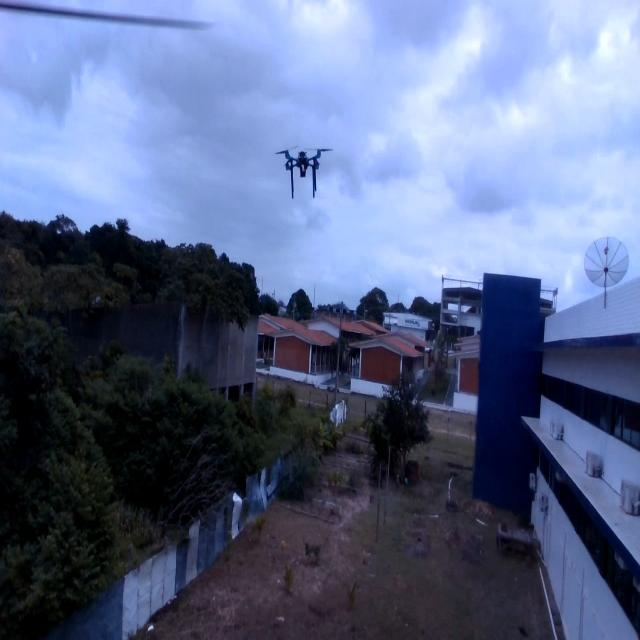-uav-: (272, 124, 330, 204)
